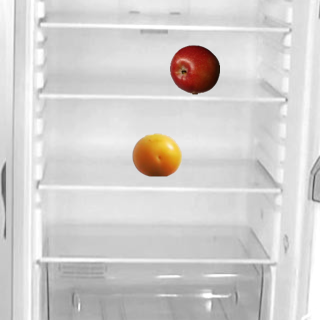Apple Braeburn: (169, 44, 219, 94)
Cherry Wax Yellow: (131, 129, 181, 179)
